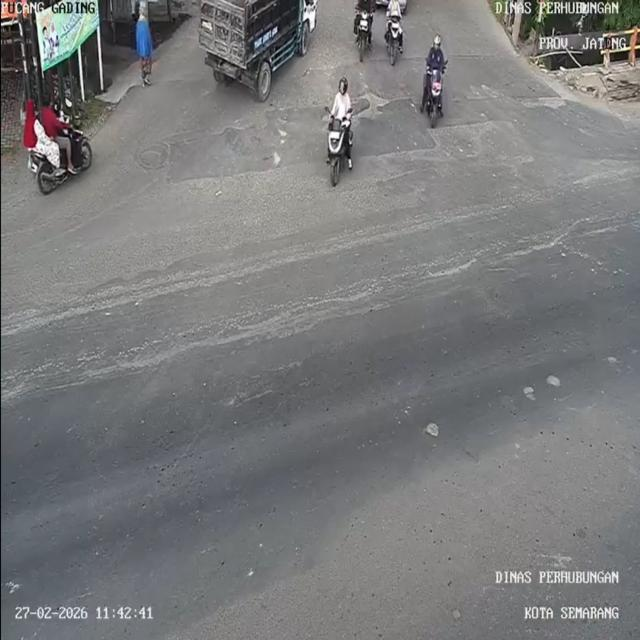motorcycle: (30, 127, 96, 191), (322, 112, 348, 182), (423, 66, 445, 130), (382, 13, 406, 68), (356, 11, 372, 63)
person: (19, 95, 45, 152), (42, 95, 70, 143), (331, 80, 352, 132), (423, 36, 448, 74), (386, 0, 403, 26), (357, 0, 375, 18)
rider_region: (20, 93, 94, 196), (326, 78, 354, 188), (422, 35, 448, 129), (384, 0, 406, 68), (353, 0, 376, 64)
